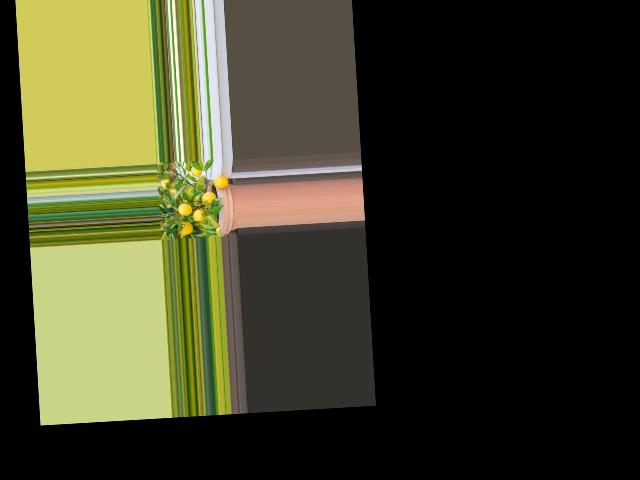lemon: (189, 165, 205, 177)
